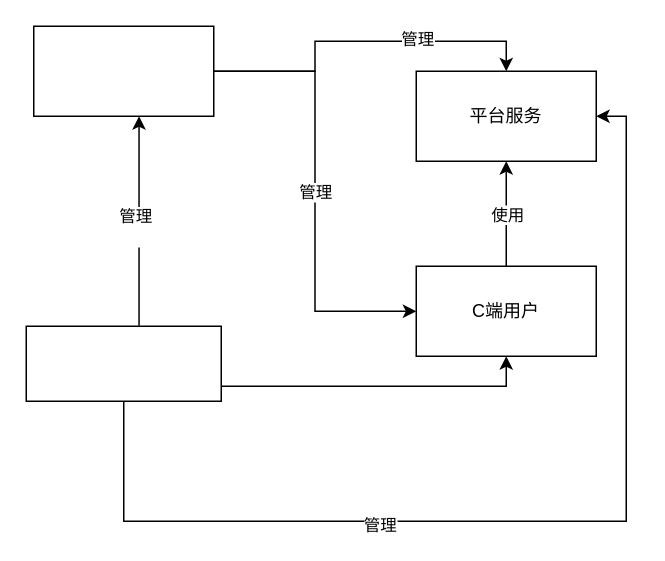
Image size: 665x561. Some labels were removed from this diagram. The shapes that lost their labels are listed below. From the top down, each one's centre as x and y in pixels, then its label:
At point 123,70: "运维人员".
At point 123,363: "系统超级管理员".
